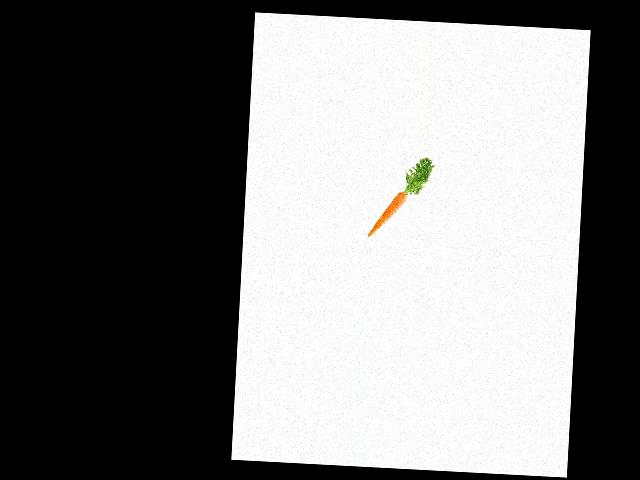carrot: (365, 184, 408, 240)
